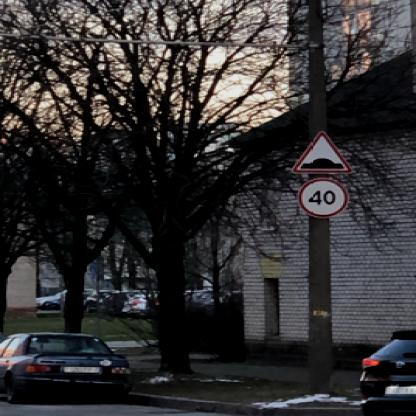speedlimit: (298, 176, 346, 218)
